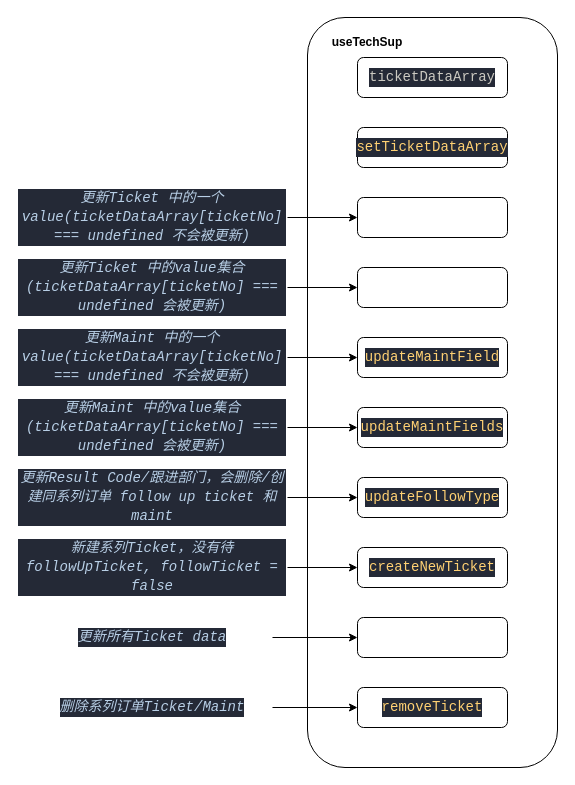
Some shapes in this 575 by 785 pixel diagram are drawn without their labels. Here are the shapes that lost their labels. From the top down, the centre of each, then its label:
At [432,217]: "updateTicketField".
At [432,287]: "updateTicketFields".
At [432,637]: "updateAllTicketData".
